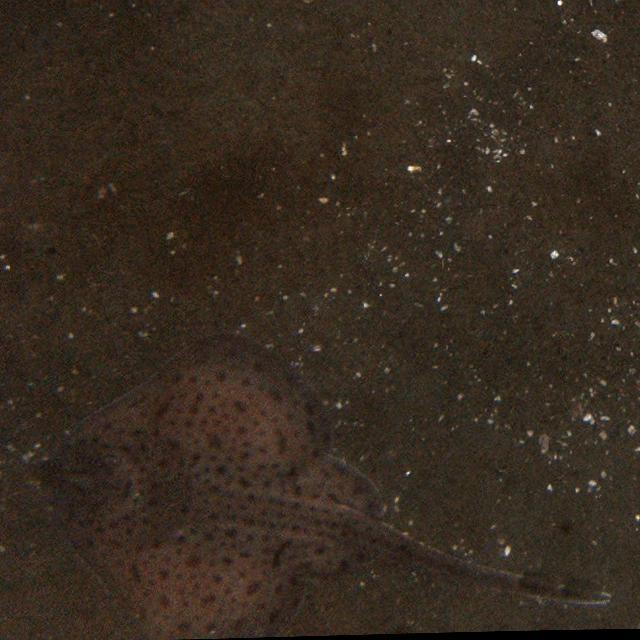skate: (32, 338, 614, 632)
